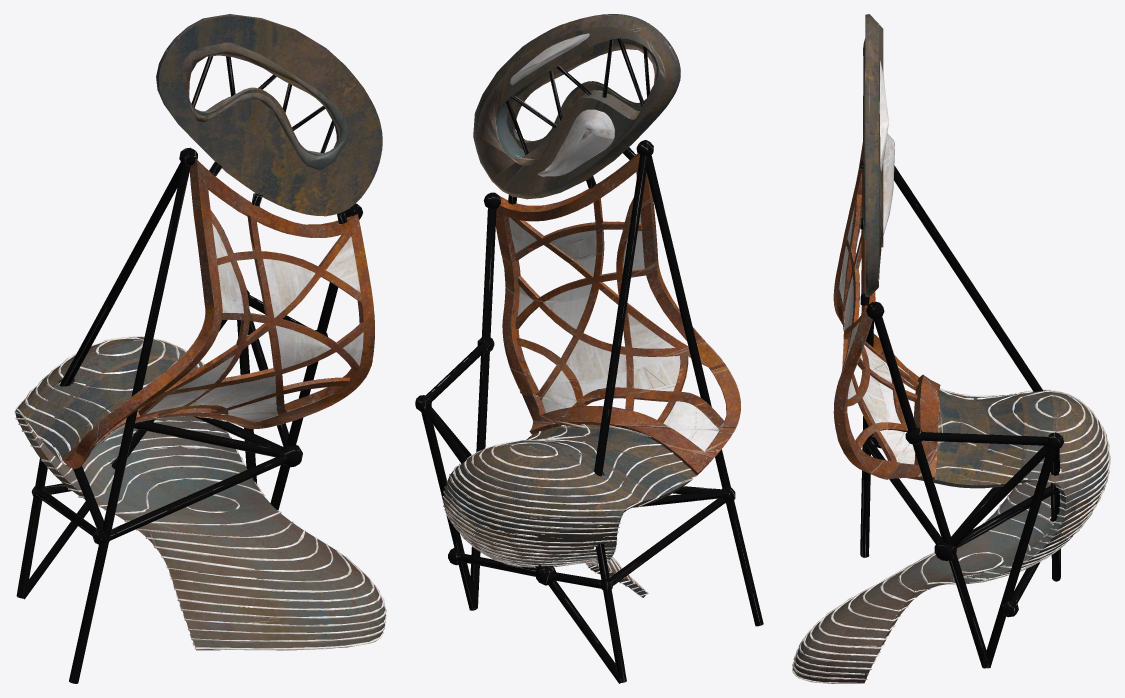
File: mermaid-chair-og-v2.glb
3 renders of one model, left to right at view 1: azimuth 30°, elevation 25°; view 2: azimuth 150°, elevation 25°; view 3: azimuth 270°, elevation 25°, orthographic. The views are drawn at different scales.
Visible parts, largest first — view 1: mermaid-chair-og; view 2: mermaid-chair-og; view 3: mermaid-chair-og.
Boxes of the visible parts, x1=… form: mermaid-chair-og: x1=14, y1=14, x2=386, y2=683; mermaid-chair-og: x1=415, y1=14, x2=763, y2=683; mermaid-chair-og: x1=792, y1=14, x2=1110, y2=683.
Size of the model in its own units: 0.6194 by 1.19 by 0.5734.
Materials: 1 (1 with a texture image).
